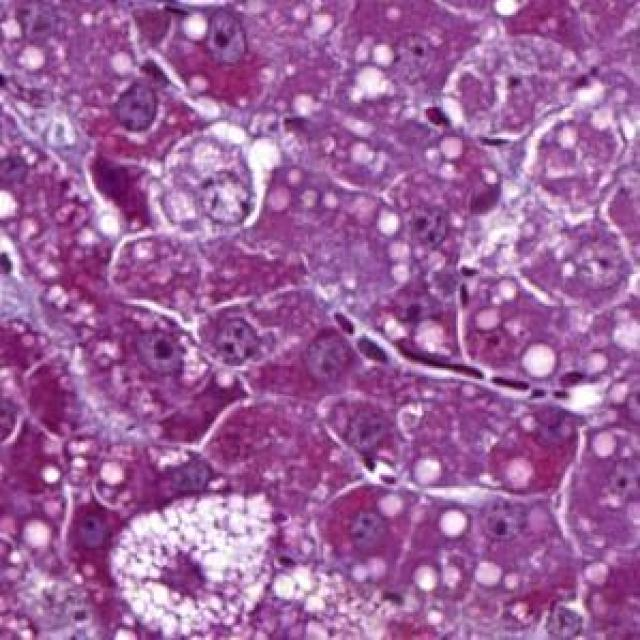ballooning: (105, 488, 280, 638)
